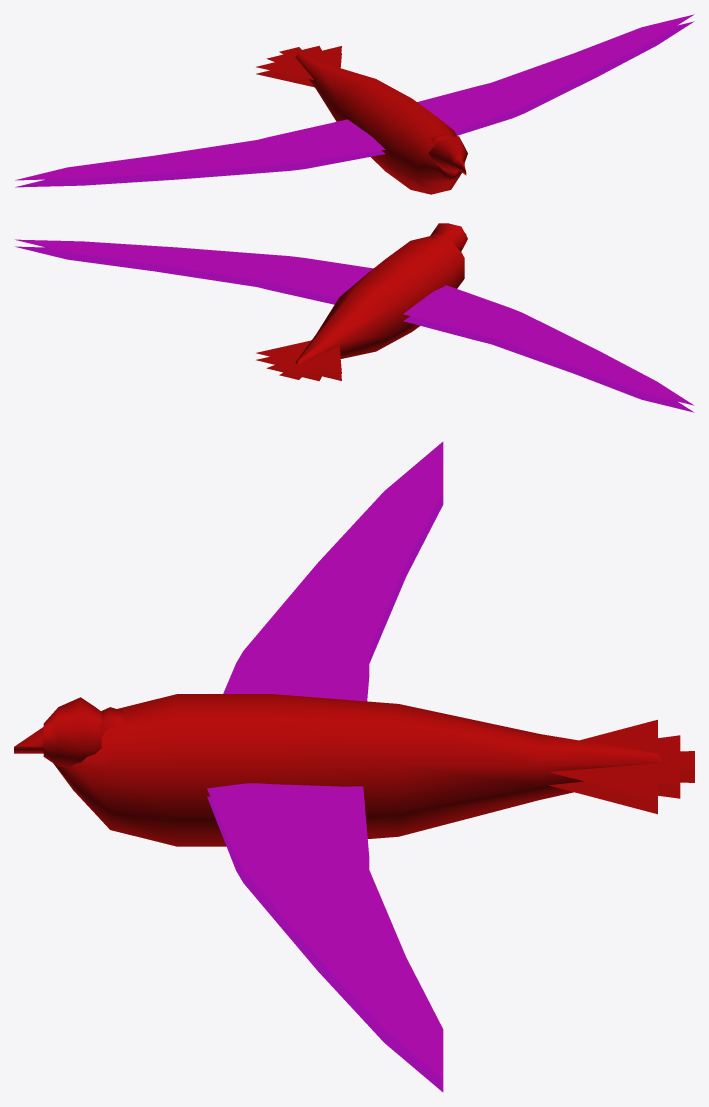
Rendered from tern.glb.
3 renders of one model, top to bottom at view 1: azimuth 30°, elevation 25°; view 2: azimuth 150°, elevation 25°; view 3: azimuth 270°, elevation 25°, orthographic. The views are drawn at different scales.
Parts seen in each view (by area): view 1: bird; view 2: bird; view 3: bird.
Part boxes in pixels (box(x1,y1,x2,y2)): bird: box(15, 14, 694, 194); bird: box(15, 223, 694, 412); bird: box(14, 441, 694, 1092).
Size of the model in its own units: 0.7969 by 0.0742 by 0.3594.
